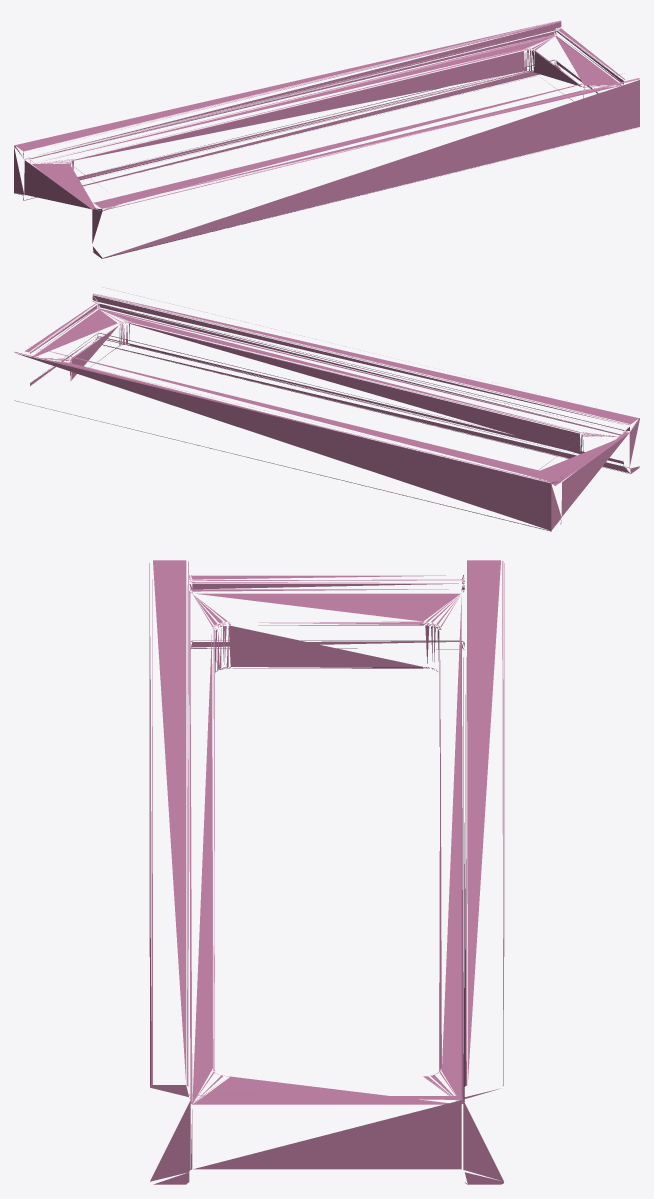
File: structure_beam_center_b01.glb
3 views of the same model, one above another, from view 1: azimuth 30°, elevation 25°; view 2: azimuth 150°, elevation 25°; view 3: azimuth 270°, elevation 25° (orthographic). The views are drawn at different scales.
Visible parts, largest first — view 1: geometry_0; view 2: geometry_0; view 3: geometry_0.
Boxes of the visible parts, box(x1,y1,x2,y2) form: geometry_0: box(14, 20, 639, 258); geometry_0: box(14, 287, 639, 531); geometry_0: box(149, 560, 504, 1184).
Bounding box in the file's own units: 0.48 × 0.0426 × 0.1371.
